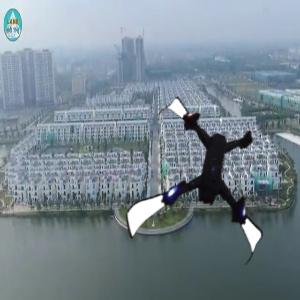drone: (133, 111, 288, 266)
